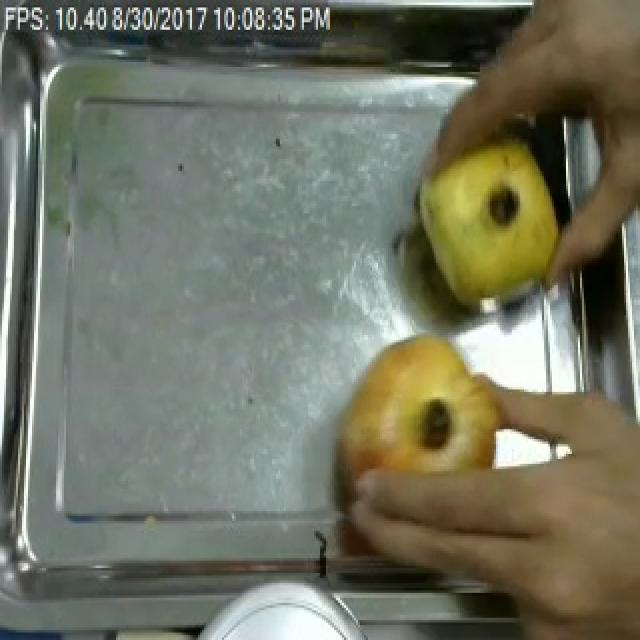fruit: (332, 322, 518, 493), (410, 121, 566, 322)
